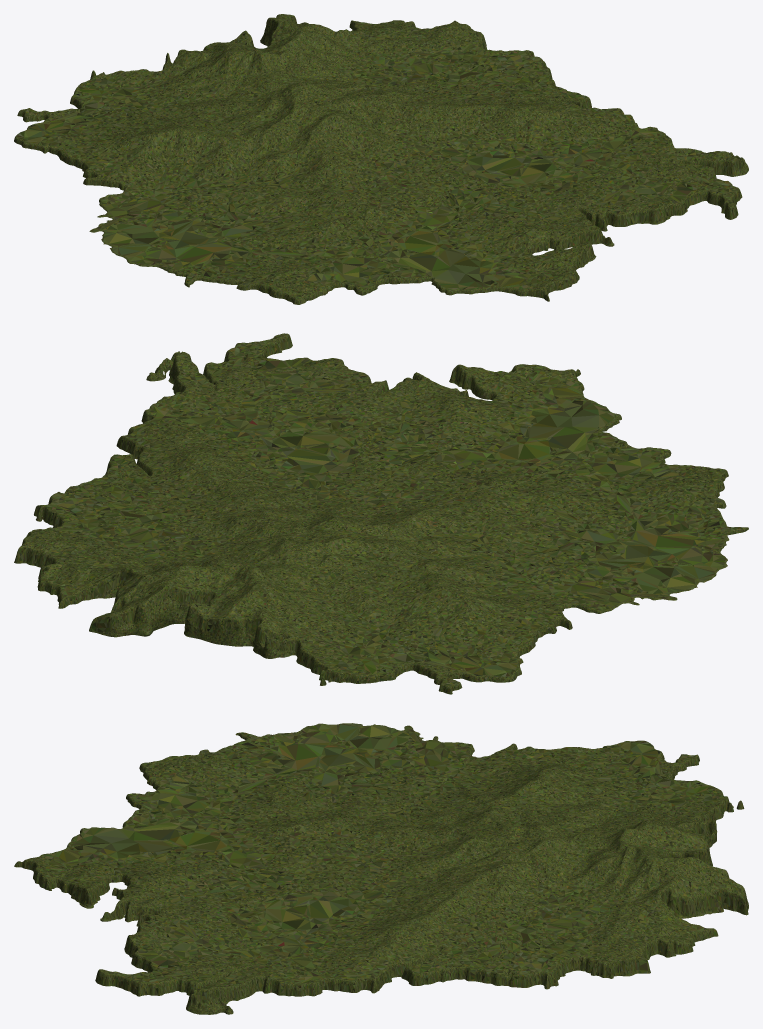
The model's file is FloatingIsland_AddTextureblend.gltf.
3 renders of one model, top to bottom at view 1: azimuth 30°, elevation 25°; view 2: azimuth 150°, elevation 25°; view 3: azimuth 270°, elevation 25°, orthographic. The views are drawn at different scales.
Parts seen in each view (by area): view 1: RootNode; view 2: RootNode; view 3: RootNode.
Part boxes in pixels (box(x1,y1,x2,y2)): RootNode: box(14, 14, 748, 304); RootNode: box(14, 333, 748, 694); RootNode: box(14, 723, 748, 1014).
Bounding box in the file's own units: 504 × 31.34 × 538.
Materials: 1 (1 with a texture image).
